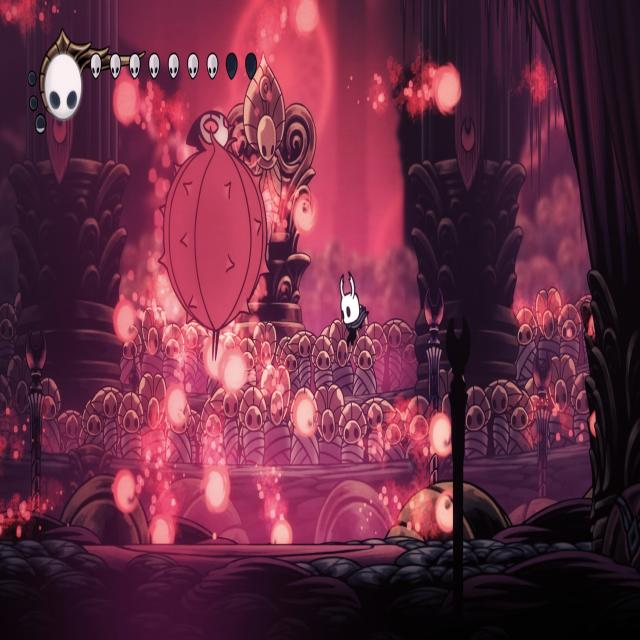Player: (337, 267, 370, 353)
Pufferfish: (155, 109, 272, 368)
Tiny Fireballs: (435, 65, 463, 117), (112, 76, 140, 128), (204, 465, 230, 512), (428, 412, 452, 459), (292, 393, 316, 439), (435, 494, 460, 538), (223, 350, 248, 393), (114, 300, 138, 344), (114, 470, 138, 514), (167, 386, 190, 431), (294, 192, 318, 234), (294, 0, 319, 37), (205, 338, 226, 379), (151, 512, 173, 546), (271, 520, 294, 545)
